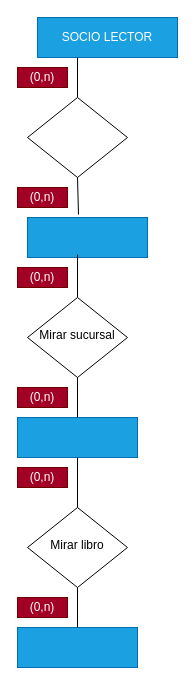
This 195x685 diagram has some shape labels left out. The shapes that lost their labels are listed below. From the top down, each one's centre as x and y in pixels, then its label:
the point at 77,137: Reserva de libros
the point at 87,237: RESERVA DE UN EJEMPLAR DE LIBRO
the point at 77,437: SUCURSALES
the point at 77,647: EJEMPLARES
